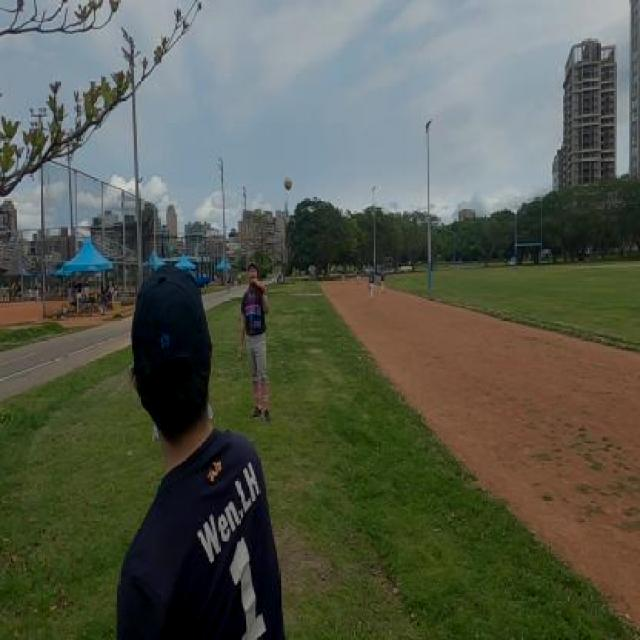sports ball: (282, 176, 294, 190)
